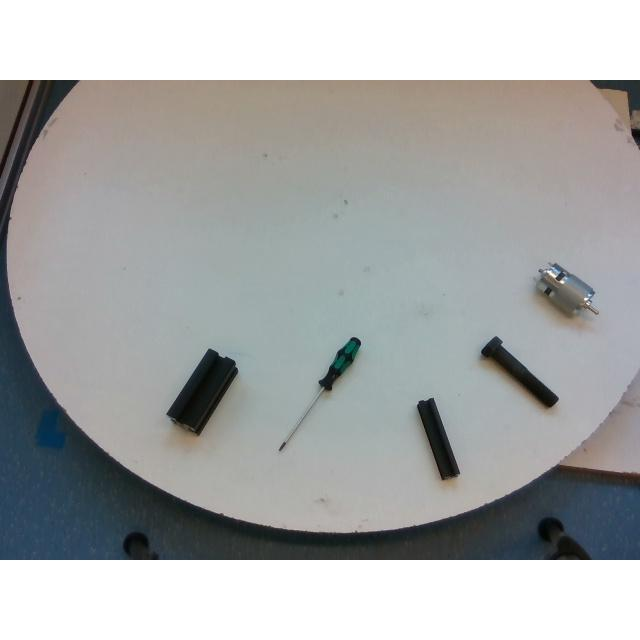F20_20_B: (416, 396, 459, 480)
M20_100: (482, 336, 558, 406)
Motor2: (536, 262, 596, 314)
S40_40_B: (167, 349, 237, 433)
Screwdriver: (279, 338, 359, 449)
